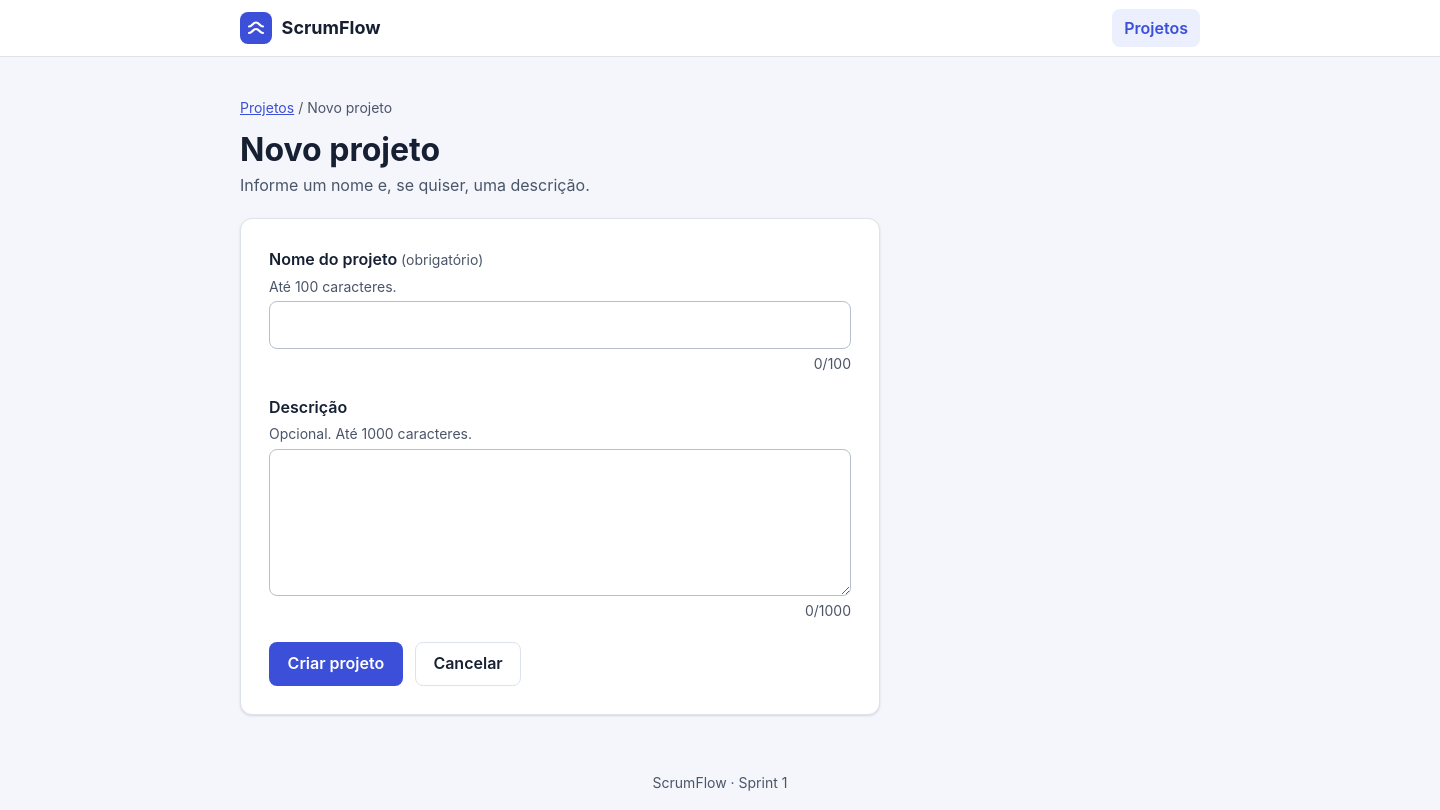
it: Criação de projeto › sucesso: envia o corpo normalizado, volta à listagem e confirma só depois da API (AC01)
Click the field labelled "Nome do projeto (obrigatório)": x=560, y=325 [269,301,851,349]
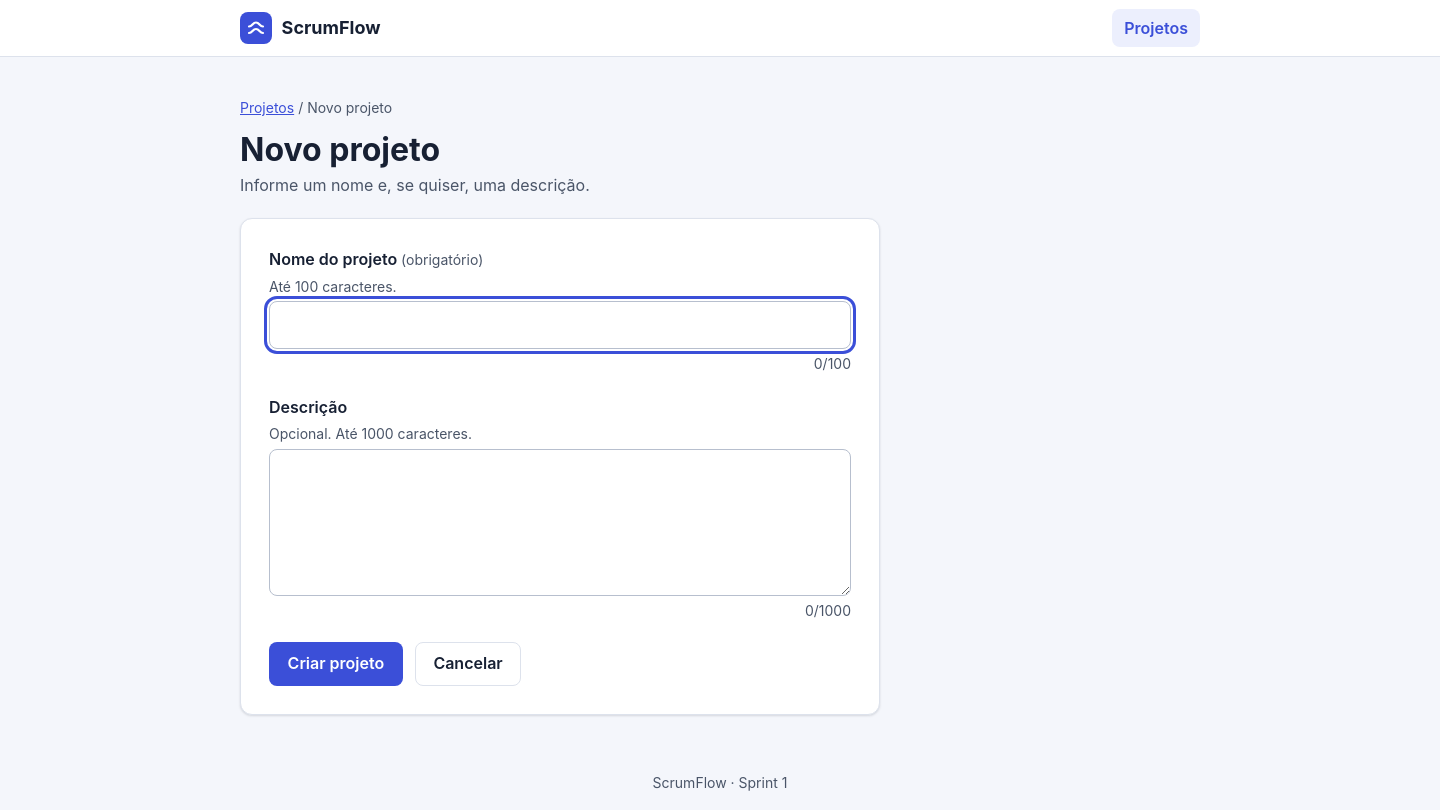
Type keys "  Alfa  "
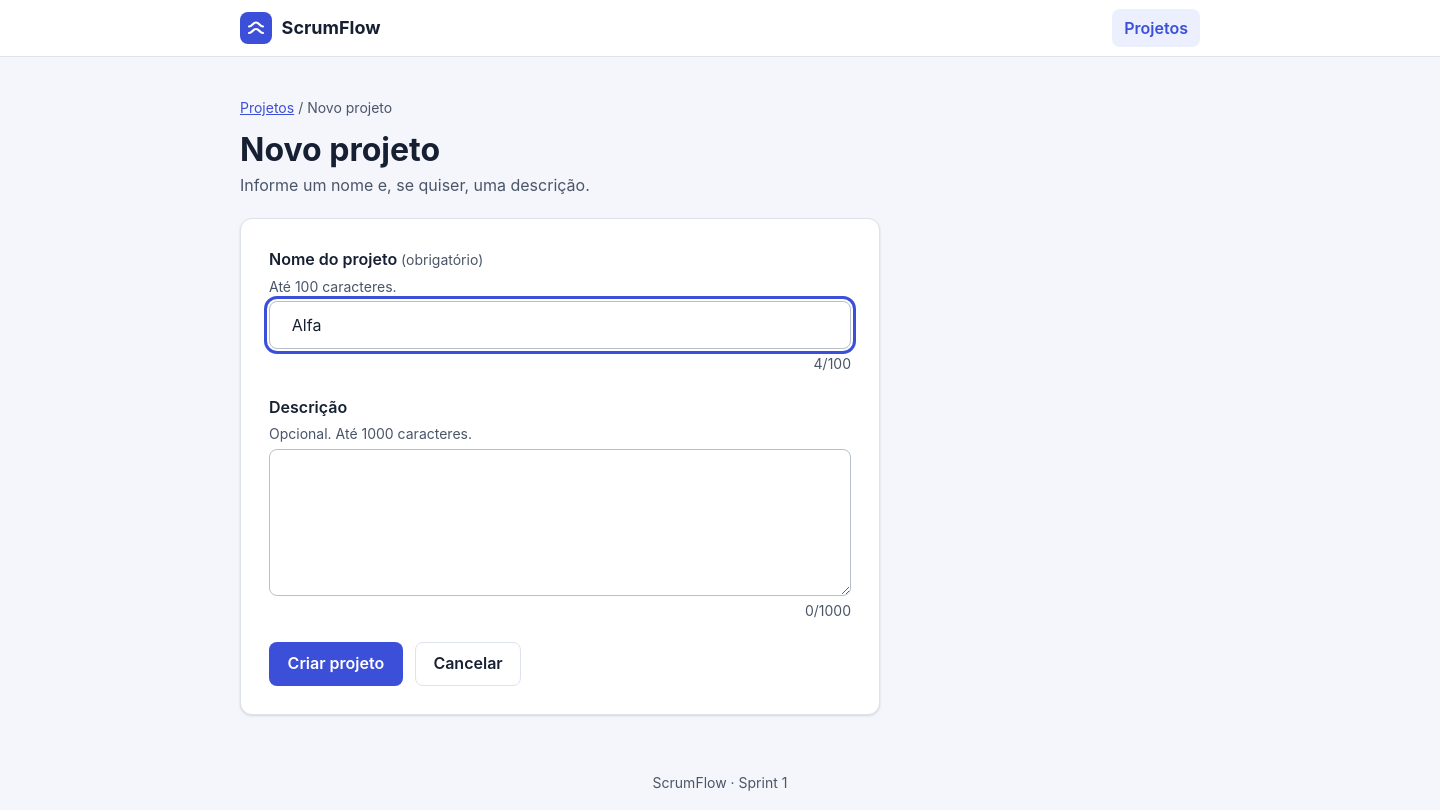
Click the text box labelled "Descrição": x=560, y=522 [269,449,851,596]
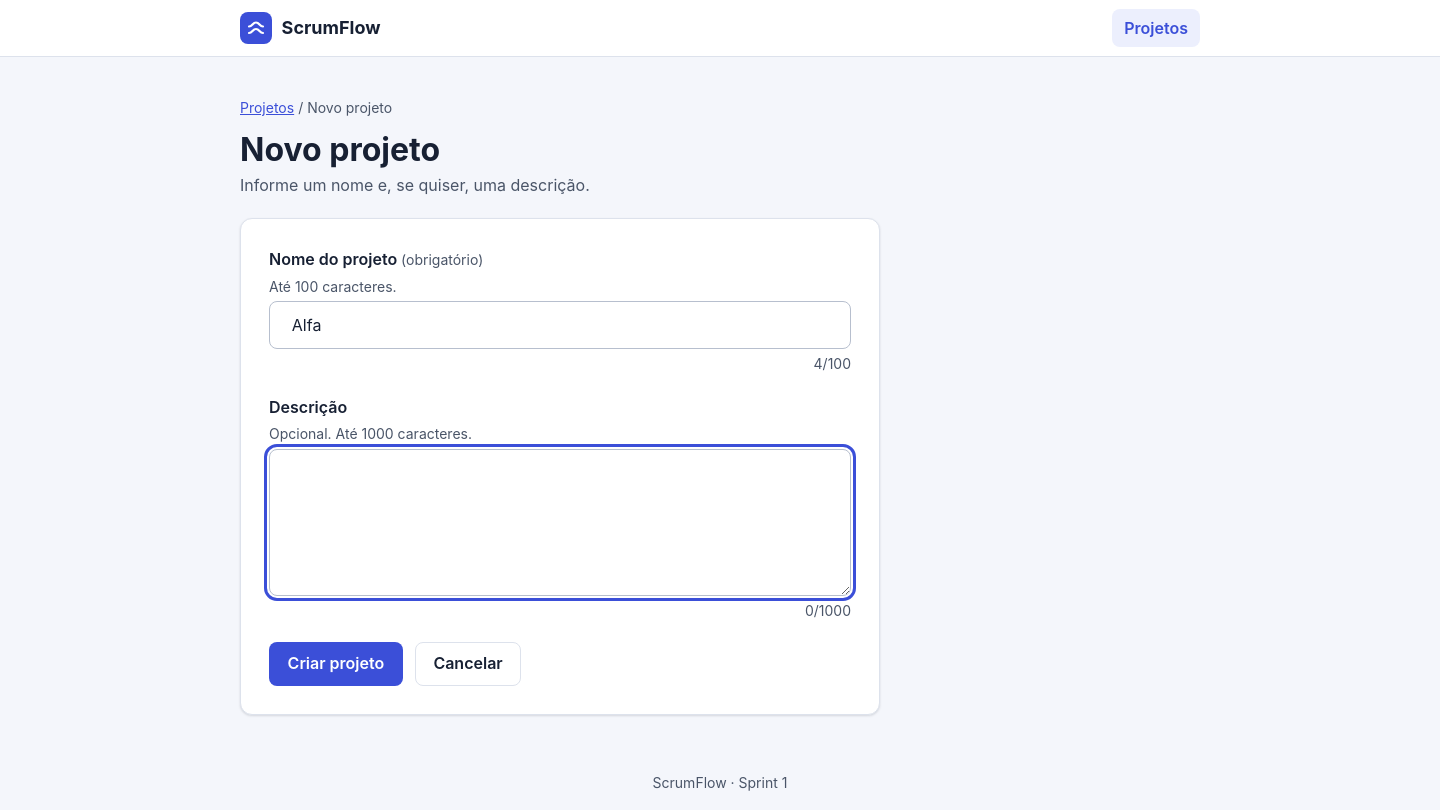
Type keys "Texto"
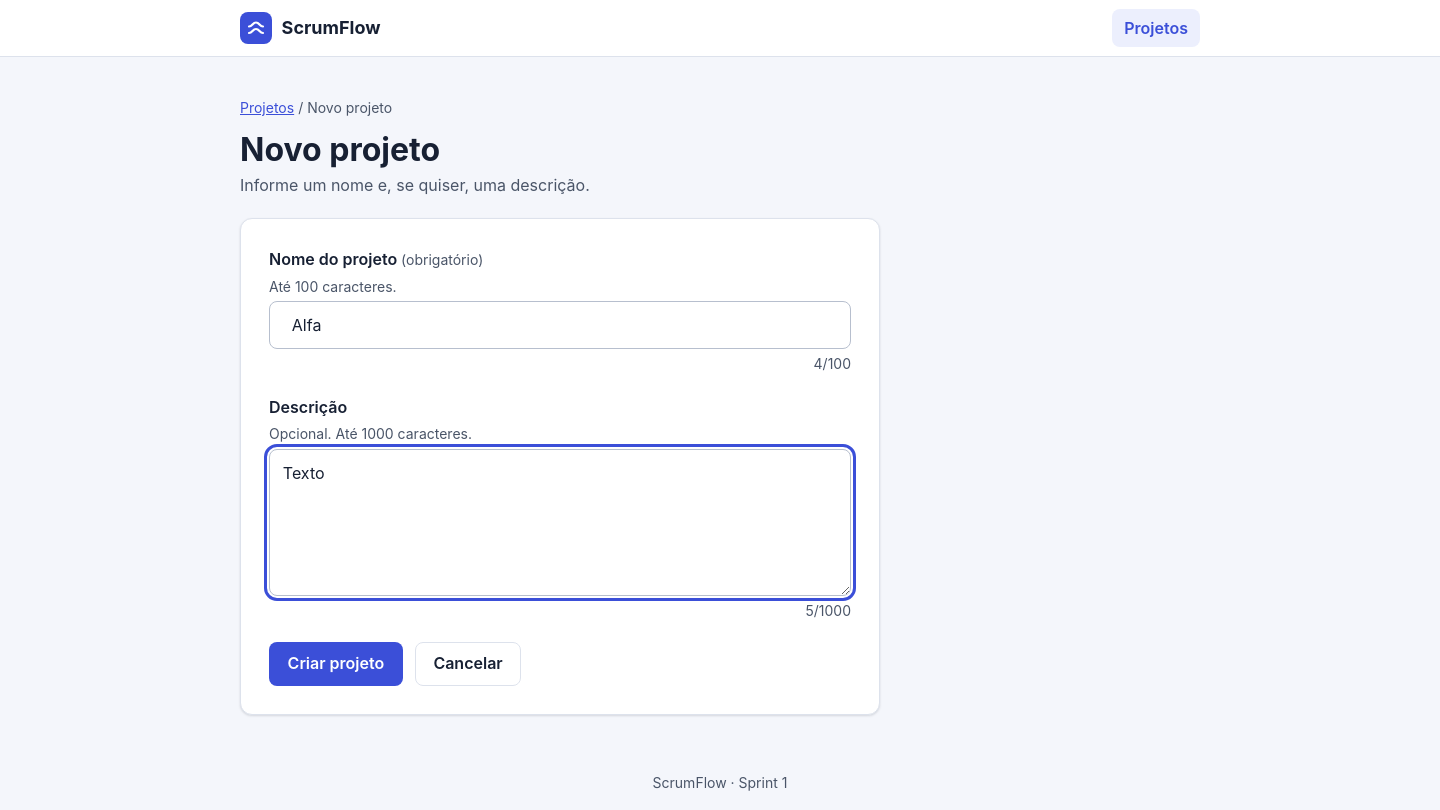
Click the button "Criar projeto": x=336, y=664 [269,642,403,686]
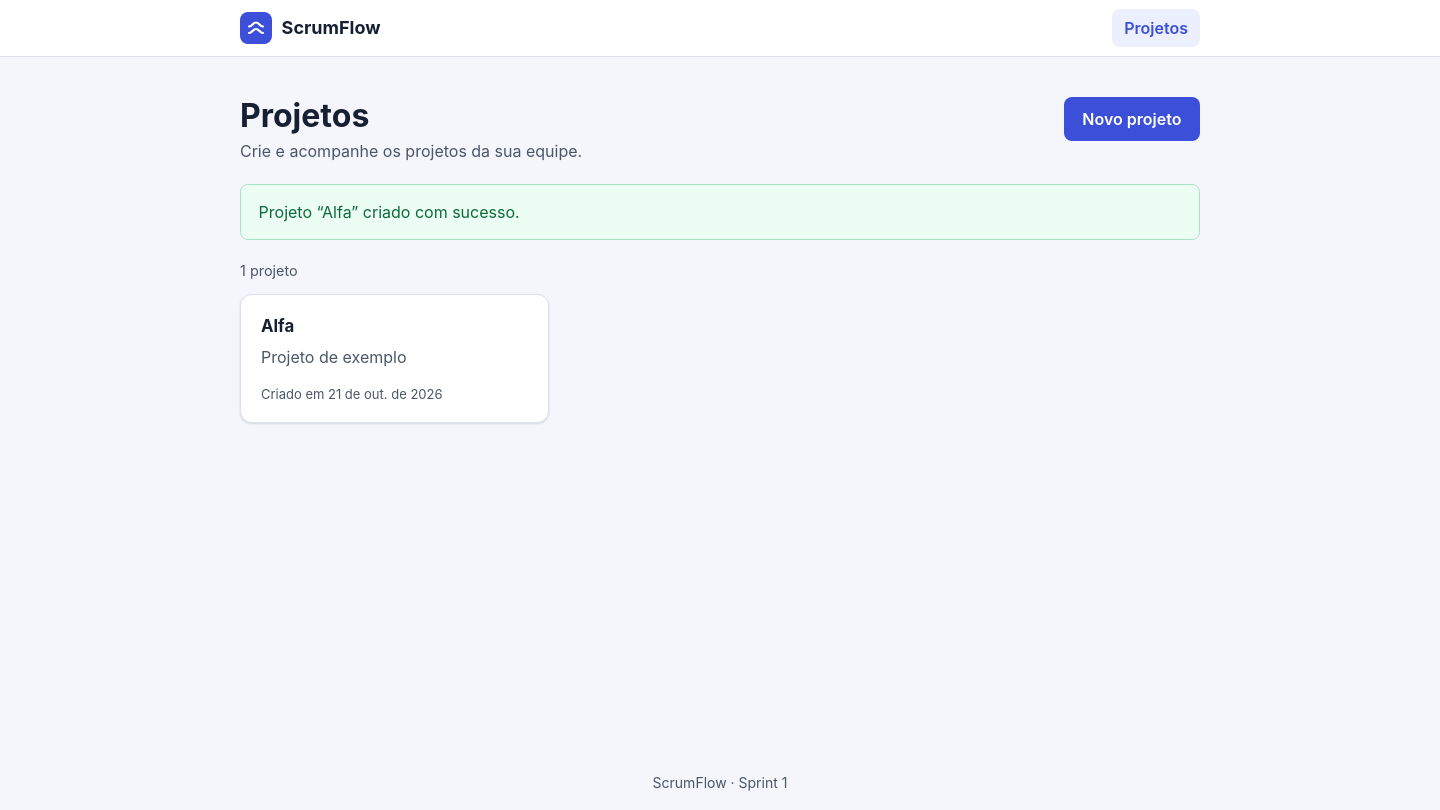
Result: the text "Projeto “Alfa” criado com sucesso." is shown at [259,202,520,222]
Result: the link "Alfa Projeto de exemplo Criado em 21 de out. de 2026" is shown at [240,294,549,423]
